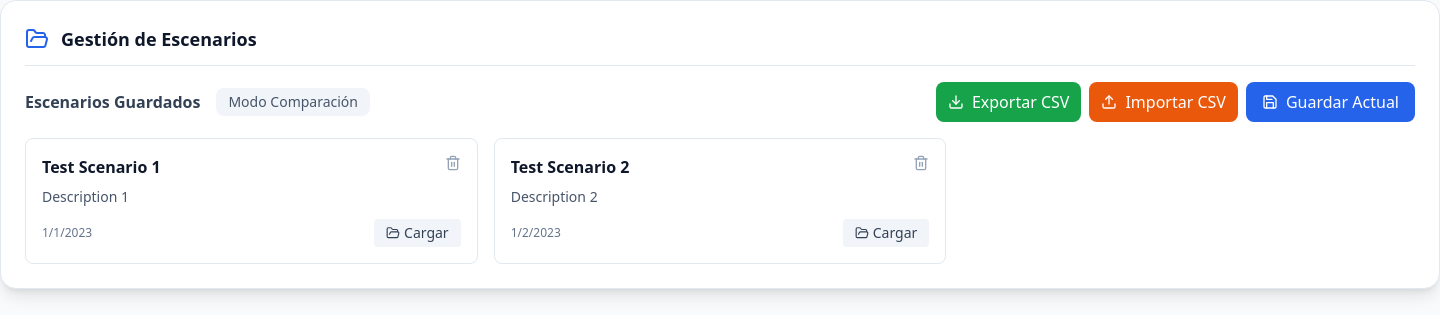
Test case: ScenarioManager › should enable compare button when 2 or more scenarios selected
# Enable comparison mode
Click the button "Modo Comparación": point(293, 102) x1=216 y1=88 x2=370 y2=116
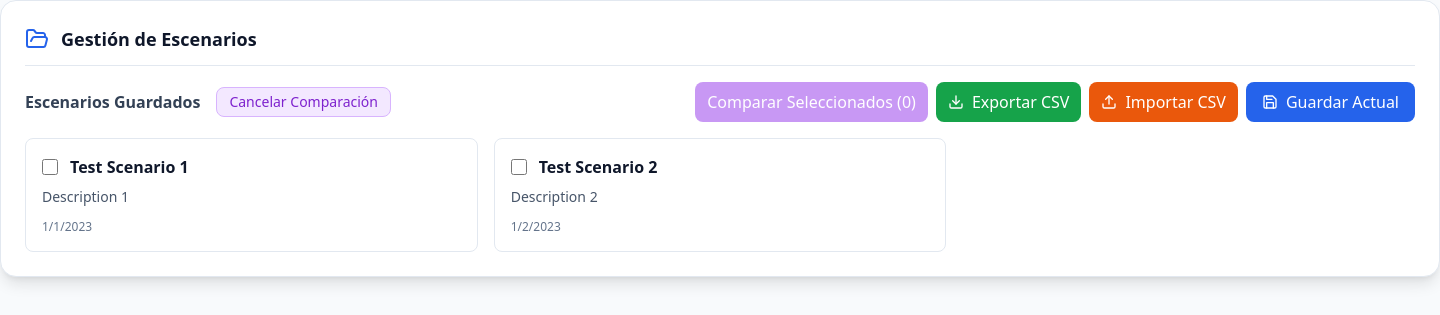
Check: the button "Comparar Seleccionados (0)" is disabled, box x1=695 y1=82 x2=928 y2=122
# Select first scenario
Click the checkbox next to "Test Scenario 1": point(50, 167) x1=42 y1=159 x2=58 y2=175
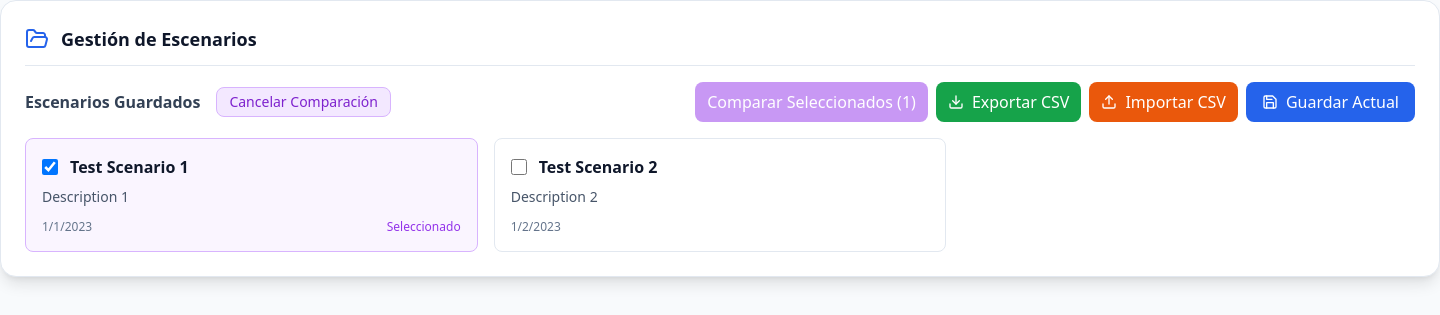
Check: the button "Comparar Seleccionados (1)" is disabled, box x1=695 y1=82 x2=928 y2=122
# Select second scenario
Click the checkbox next to "Test Scenario 2": point(519, 167) x1=511 y1=159 x2=527 y2=175
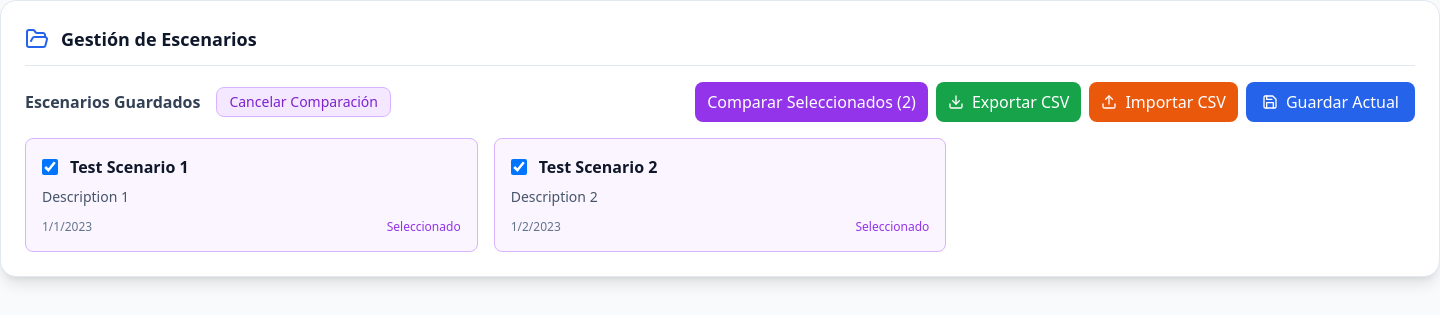
Check: the button "Comparar Seleccionados (2)" is enabled, box x1=695 y1=82 x2=928 y2=122
